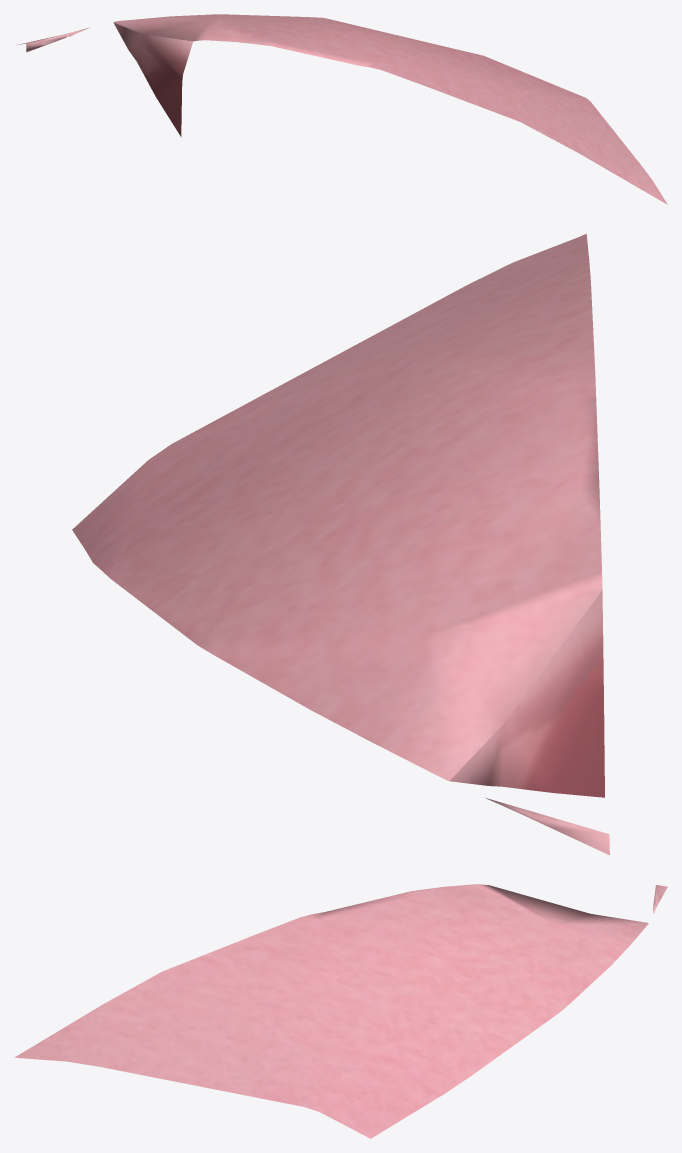
The model's file is PiggyFragment08.glb.
The picture shows the model from 3 angles, top to bottom: view 1: azimuth 30°, elevation 25°; view 2: azimuth 150°, elevation 25°; view 3: azimuth 270°, elevation 25°; orthographic projection. The views are drawn at different scales.
Parts seen in each view (by area): view 1: Piece; view 2: Piece; view 3: Piece.
Part boxes in pixels (x1,y1,x2,y2): Piece: (16,14,667,204); Piece: (72,233,609,855); Piece: (14,884,667,1138).
Size of the model in its own units: 0.2502 by 0.0656 by 0.3355.
1 material, 1 textured.
